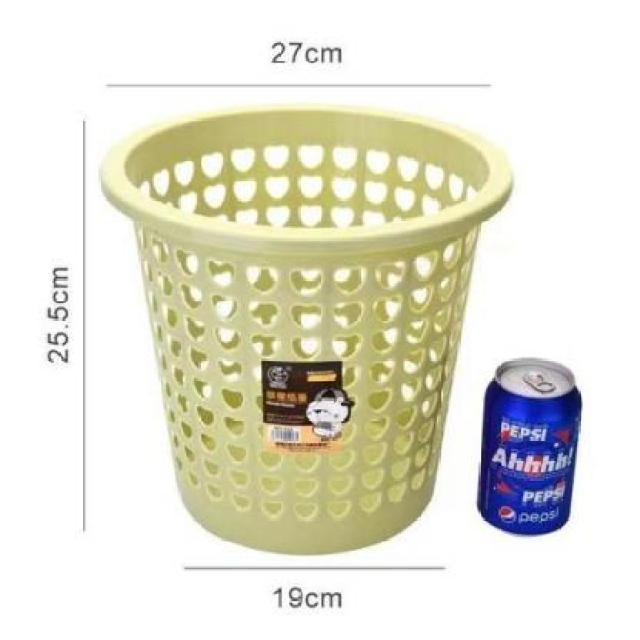dustbin: (91, 98, 520, 560)
